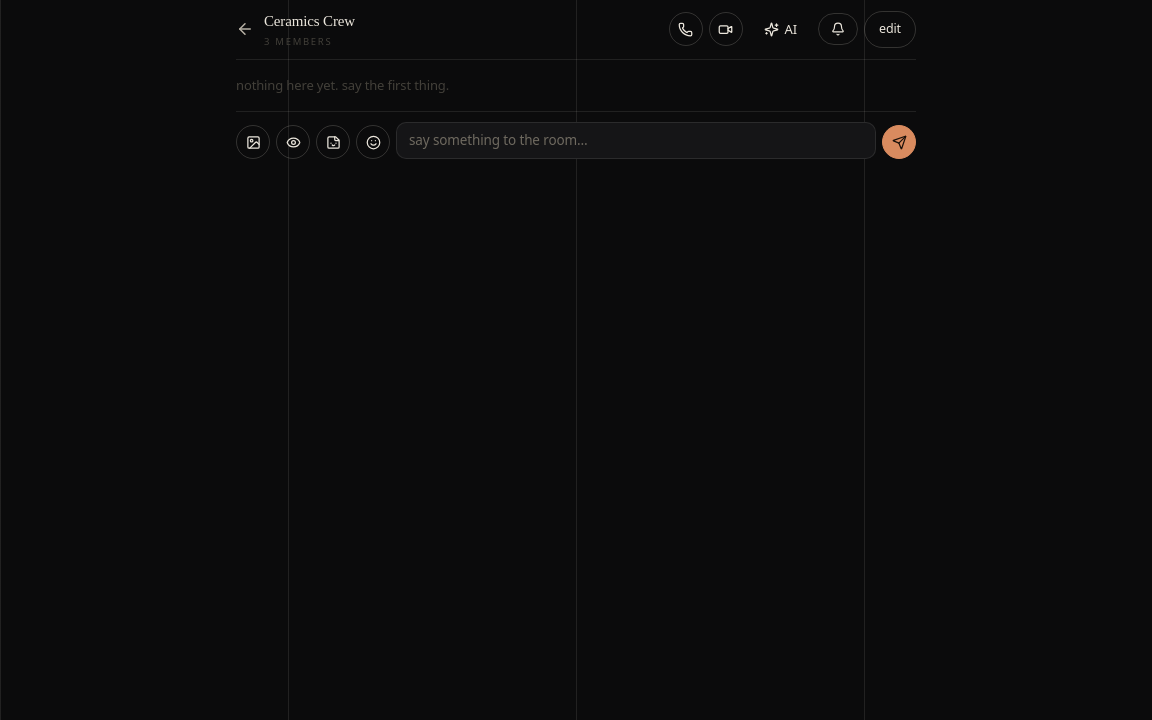
Scenario: room description modal › opens the description modal when the room name is clicked
What coordinates should you click on to do the following:
click the button "Ceramics Crew 3 members"
I would click on:
 (309, 21)
Its box is [264, 10, 659, 49].
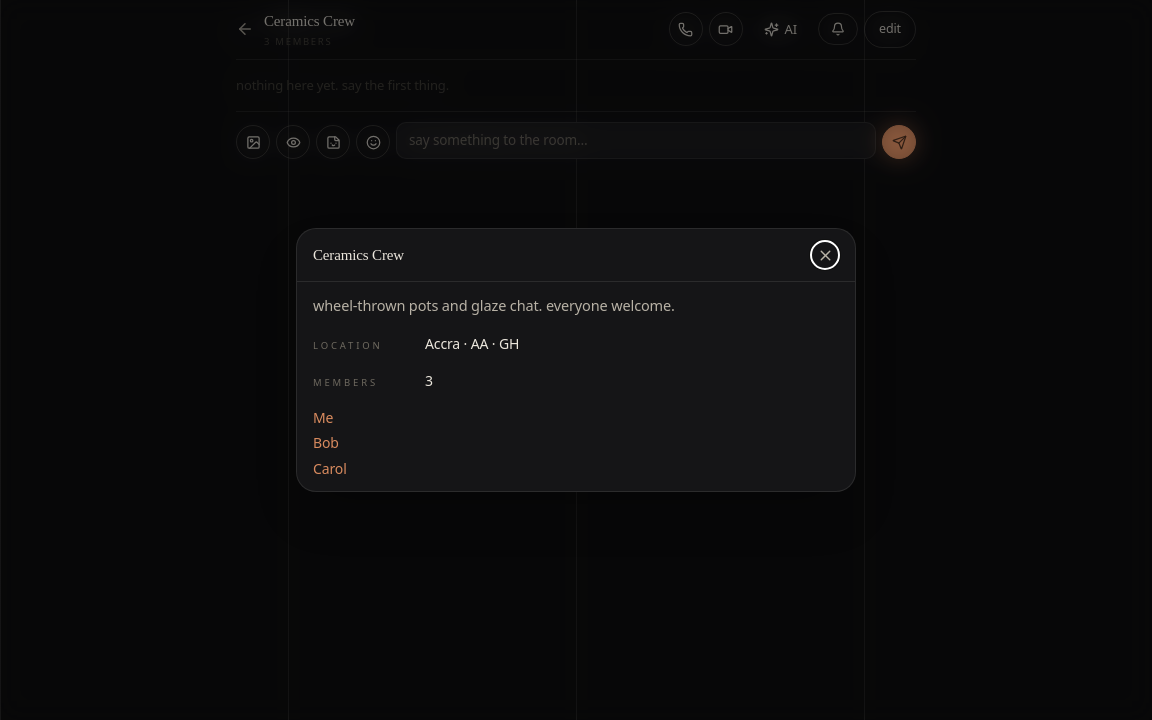
Expected: the dialog is shown, [296, 228, 856, 492]
